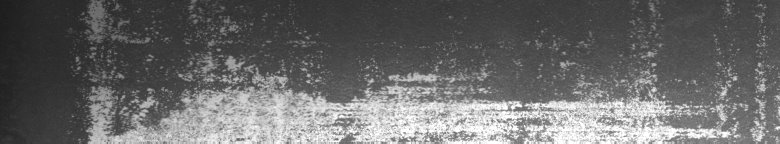kb: (70, 4, 776, 136)
